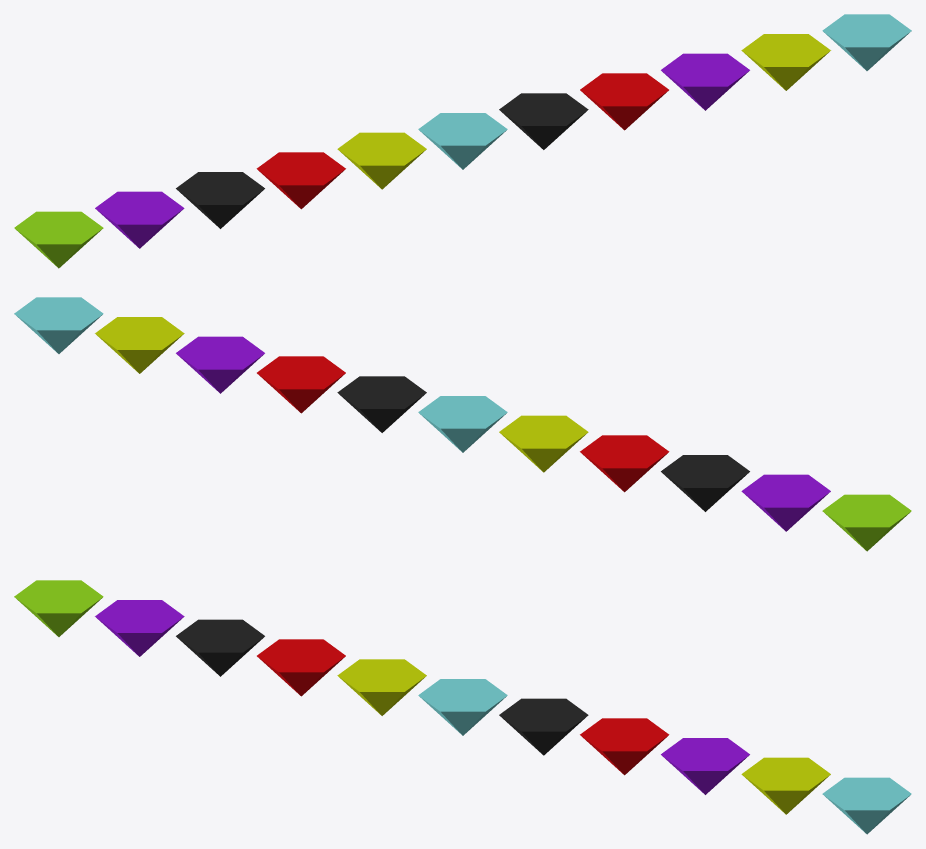
File: charkha_3.fbx
3 renders of one model, top to bottom at view 1: azimuth 30°, elevation 25°; view 2: azimuth 150°, elevation 25°; view 3: azimuth 330°, elevation 25°, orthographic.
Visible parts, largest first — view 1: Cone.016, Cone.009, Cone.013, Cone.017, Cone.010, Cone.014, Cone.007, Cone.011, Cone.008, Cone.015, Cone.012; view 2: Cone.016, Cone.009, Cone.013, Cone.017, Cone.010, Cone.014, Cone.007, Cone.011, Cone.008, Cone.015, Cone.012; view 3: Cone.008, Cone.015, Cone.011, Cone.007, Cone.014, Cone.010, Cone.017, Cone.013, Cone.016, Cone.009, Cone.012.
Part boxes in pixels (x1=…): Cone.016: x1=95, y1=191, x2=184, y2=248; Cone.009: x1=661, y1=53, x2=749, y2=110; Cone.013: x1=337, y1=132, x2=426, y2=189; Cone.017: x1=14, y1=211, x2=103, y2=268; Cone.010: x1=580, y1=73, x2=668, y2=130; Cone.014: x1=256, y1=152, x2=345, y2=209; Cone.007: x1=822, y1=14, x2=911, y2=70; Cone.011: x1=499, y1=93, x2=588, y2=149; Cone.008: x1=741, y1=34, x2=830, y2=90; Cone.015: x1=176, y1=172, x2=264, y2=228; Cone.012: x1=418, y1=113, x2=507, y2=169; Cone.016: x1=741, y1=474, x2=830, y2=531; Cone.009: x1=176, y1=336, x2=264, y2=393; Cone.013: x1=499, y1=415, x2=588, y2=472; Cone.017: x1=822, y1=494, x2=911, y2=551; Cone.010: x1=257, y1=356, x2=345, y2=413; Cone.014: x1=580, y1=435, x2=669, y2=492; Cone.007: x1=14, y1=297, x2=103, y2=353; Cone.011: x1=337, y1=376, x2=426, y2=432; Cone.008: x1=95, y1=317, x2=184, y2=373; Cone.015: x1=661, y1=455, x2=749, y2=511; Cone.012: x1=418, y1=396, x2=507, y2=452; Cone.008: x1=741, y1=757, x2=830, y2=814; Cone.015: x1=176, y1=619, x2=264, y2=676; Cone.011: x1=499, y1=698, x2=588, y2=755; Cone.007: x1=822, y1=777, x2=911, y2=834; Cone.014: x1=257, y1=639, x2=345, y2=696; Cone.010: x1=580, y1=718, x2=669, y2=775; Cone.017: x1=14, y1=580, x2=103, y2=636; Cone.013: x1=337, y1=659, x2=426, y2=715; Cone.016: x1=95, y1=600, x2=184, y2=656; Cone.009: x1=661, y1=738, x2=749, y2=794; Cone.012: x1=418, y1=679, x2=507, y2=735.
Size of the model in its own units: 13510 by 600 by 1200.
